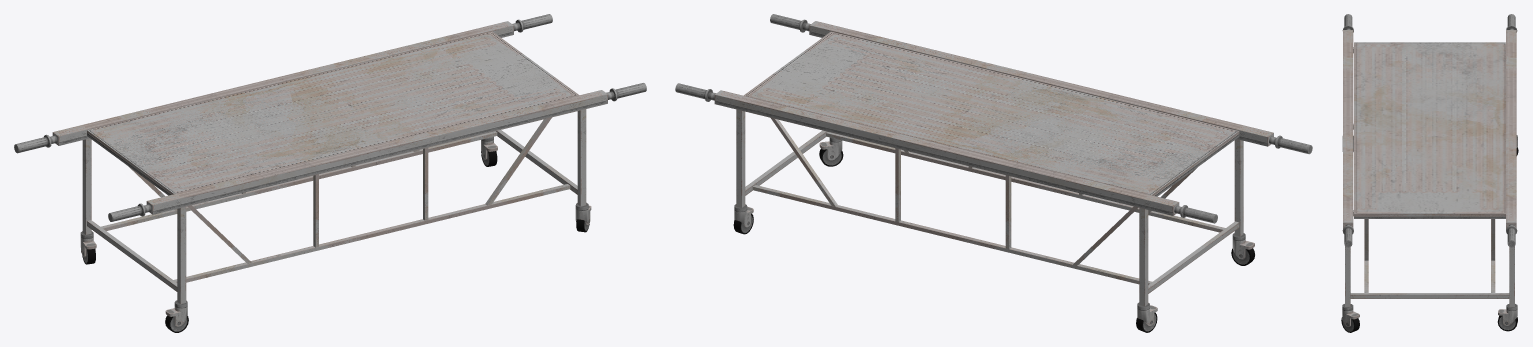
The model's file is HH_Hospital_Bed_05.fbx.
3 views of the same model, side by side, from view 1: azimuth 30°, elevation 25°; view 2: azimuth 150°, elevation 25°; view 3: azimuth 270°, elevation 25° (orthographic). The views are drawn at different scales.
Parts seen in each view (by area): view 1: HH_Hospital_Bed_05_LOD0; view 2: HH_Hospital_Bed_05_LOD0; view 3: HH_Hospital_Bed_05_LOD0.
Boxes of the visible parts, <box> form: HH_Hospital_Bed_05_LOD0: <box>14,14,646,332</box>; HH_Hospital_Bed_05_LOD0: <box>675,14,1312,332</box>; HH_Hospital_Bed_05_LOD0: <box>1341,14,1518,332</box>.
Size of what is drawn, in the model's own units: 293 by 71.19 by 96.87.
